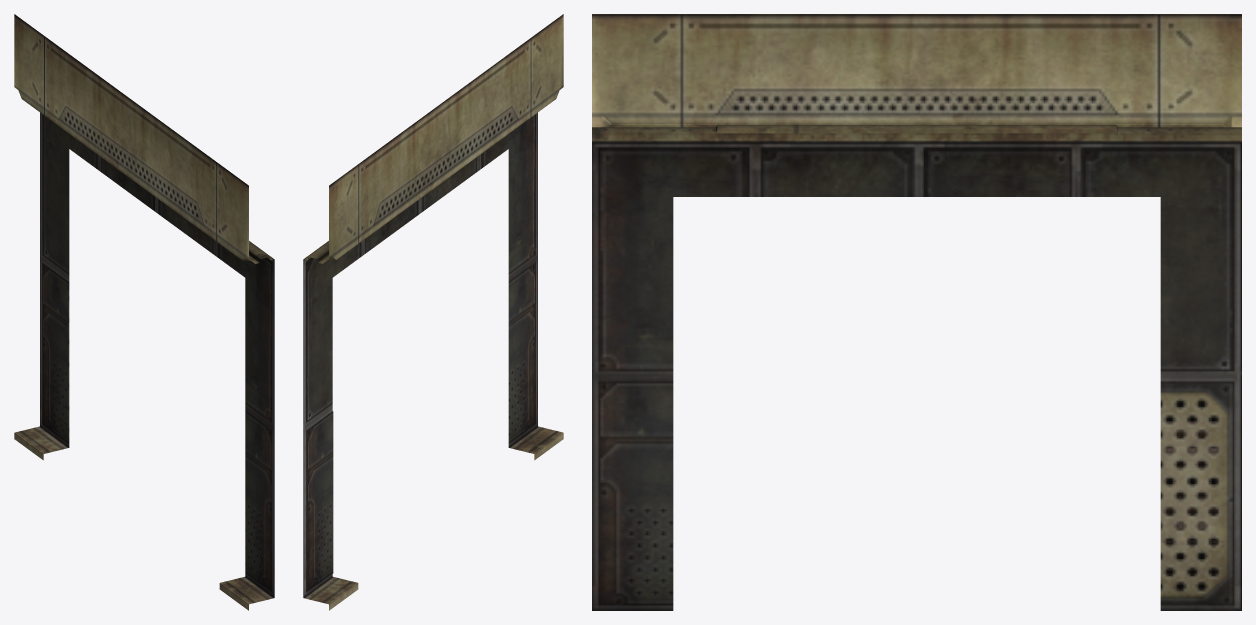
File: pplant_ground_doorway_blastdoor.dae
3 renders of one model, left to right at view 1: azimuth 30°, elevation 25°; view 2: azimuth 150°, elevation 25°; view 3: azimuth 270°, elevation 25°, orthographic. The views are drawn at different scales.
Parts seen in each view (by area): view 1: ground_doorway_blast_door; view 2: ground_doorway_blast_door; view 3: ground_doorway_blast_door.
Part boxes in pixels (x1=…): ground_doorway_blast_door: x1=14, y1=14, x2=274, y2=610; ground_doorway_blast_door: x1=303, y1=14, x2=563, y2=610; ground_doorway_blast_door: x1=592, y1=14, x2=1241, y2=610.
Bounding box in the file's own units: 0.25 × 4 × 4.
